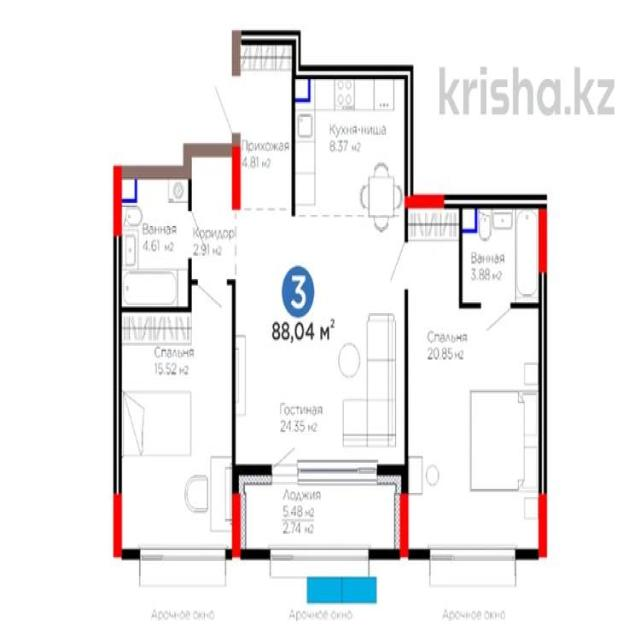balcony: (236, 477, 398, 558)
bathroom: (119, 176, 191, 308), (462, 207, 540, 306)
hallway: (243, 46, 291, 212), (192, 157, 232, 310)
living_room: (408, 304, 540, 553), (119, 313, 236, 554)
studio: (238, 77, 408, 469)
